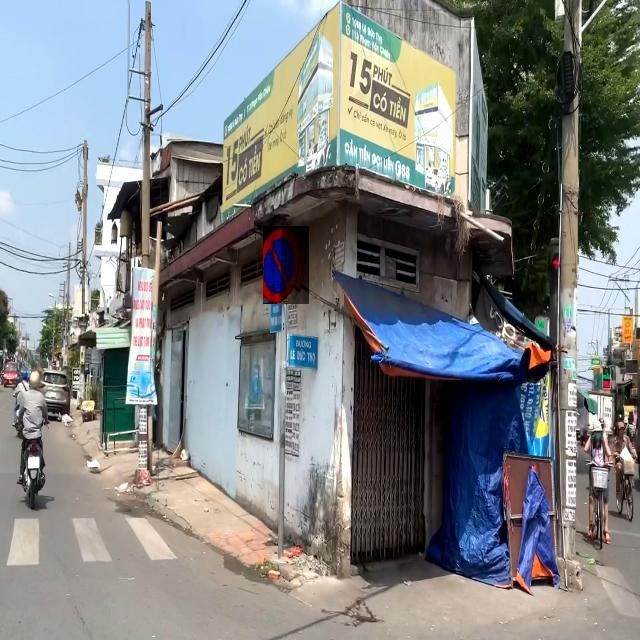bien_cam: (264, 227, 310, 304)
